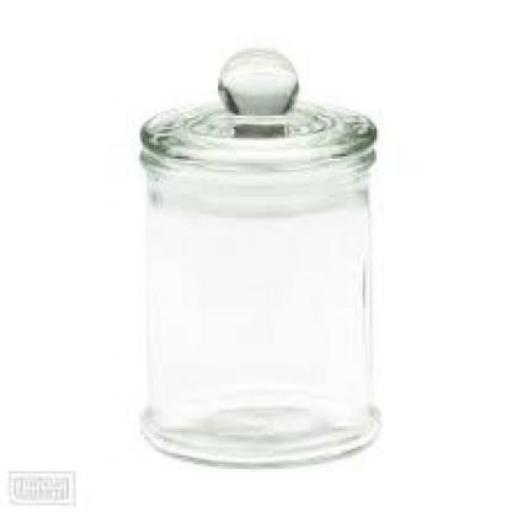glass: (142, 48, 379, 462)
